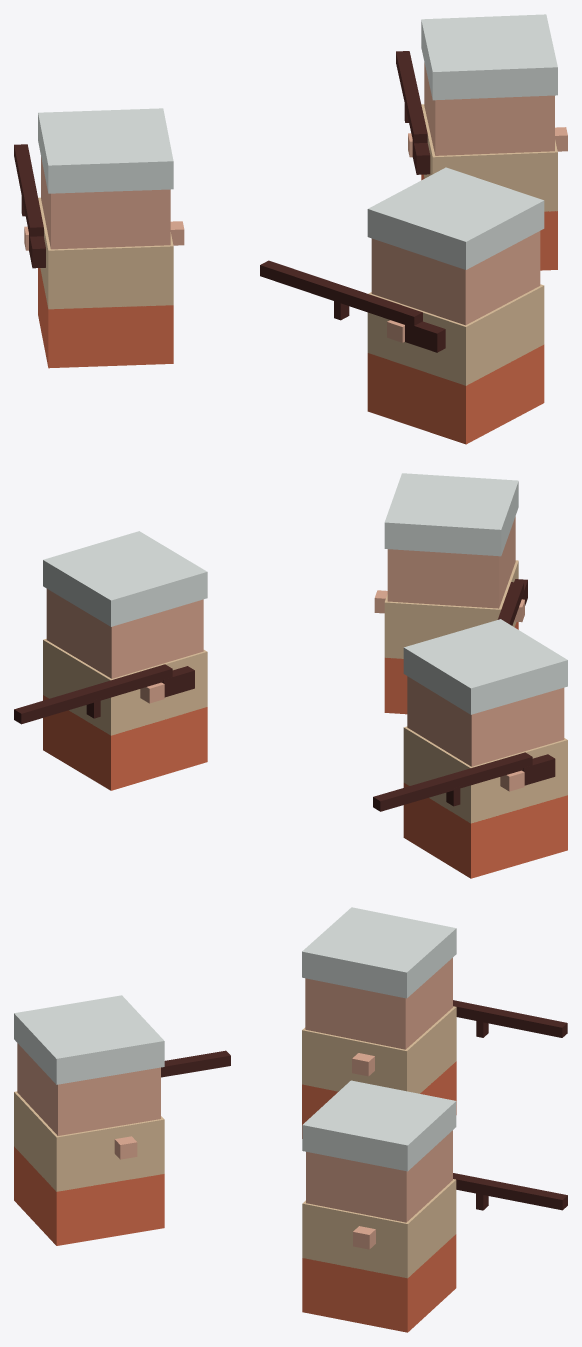
Rendered from doonRiflemen.gltf.
3 views of the same model, one above another, from view 1: azimuth 30°, elevation 25°; view 2: azimuth 150°, elevation 25°; view 3: azimuth 270°, elevation 25° (orthographic). The views are drawn at different scales.
Visible parts, largest first — view 1: Cube.004, Cube.024, Cube.015, Cube.002, Cube.003, Cube.001, Cube.017, Cube.018, Cube.025, Cube.016, Cube.027, Cube.005 (+5 smaller); view 2: Cube.015, Cube.024, Cube.004, Cube.026, Cube.017, Cube.016, Cube.025, Cube.003, Cube.018, Cube.027, Cube.001, Cube.014 (+5 smaller); view 3: Cube.015, Cube.024, Cube.004, Cube.026, Cube.027, Cube.002, Cube.001, Cube.016, Cube.025, Cube.003, Cube.018, Cube.014 (+3 smaller).
Part boxes in pixels (box(x1,y1,x2,y2)): Cube.004: box(367, 167, 544, 269); Cube.024: box(421, 14, 557, 100); Cube.015: box(38, 108, 173, 193); Cube.002: box(367, 344, 544, 444); Cube.003: box(371, 231, 540, 325); Cube.001: box(367, 284, 544, 385); Cube.017: box(38, 268, 173, 368); Cube.018: box(38, 197, 173, 309); Cube.025: box(424, 62, 554, 155); Cube.016: box(41, 157, 170, 249); Cube.027: box(421, 104, 557, 211); Cube.005: box(260, 260, 422, 325); Cube.015: box(403, 619, 567, 714); Cube.024: box(43, 531, 207, 626); Cube.004: box(384, 473, 518, 556); Cube.026: box(43, 695, 207, 790); Cube.017: box(403, 783, 567, 878); Cube.016: box(407, 676, 564, 766); Cube.025: box(46, 589, 203, 678); Cube.003: box(387, 516, 515, 608); Cube.018: box(403, 726, 567, 823); Cube.027: box(43, 639, 207, 735); Cube.001: box(384, 560, 518, 658); Cube.014: box(373, 752, 532, 811); Cube.015: box(302, 907, 456, 998); Cube.024: box(302, 1080, 456, 1171); Cube.004: box(14, 995, 164, 1084); Cube.026: box(302, 1234, 456, 1332); Cube.027: box(302, 1179, 456, 1278); Cube.002: box(14, 1146, 164, 1245); Cube.001: box(14, 1091, 164, 1191); Cube.016: box(305, 958, 452, 1049); Cube.025: box(306, 1130, 452, 1222); Cube.003: box(17, 1043, 160, 1135); Cube.018: box(302, 1006, 456, 1093); Cube.014: box(453, 1000, 567, 1037).
Bounding box in the file's own units: 4.45 × 1.63 × 4.37.
